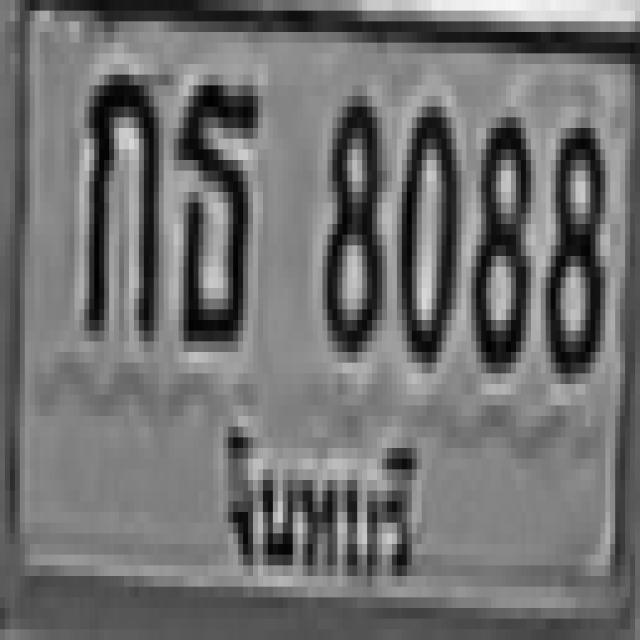0: (397, 96, 456, 352)
10GorGai: (79, 64, 159, 341)
33ThorThong: (174, 75, 258, 352)
8: (317, 86, 383, 360), (466, 106, 526, 362), (541, 112, 600, 368)
Chanthaburi: (215, 401, 428, 601)
